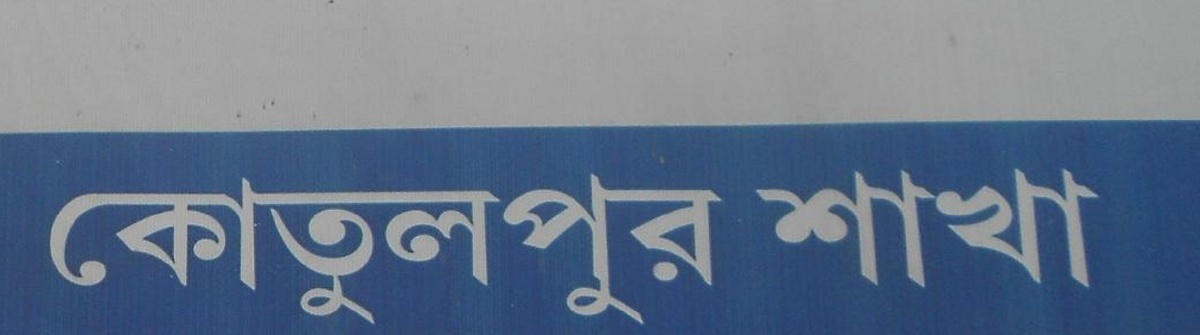text: (49, 172, 64, 330), (65, 172, 80, 330), (81, 172, 96, 330), (97, 172, 112, 330), (113, 172, 128, 330), (129, 172, 144, 330), (145, 172, 160, 330), (161, 172, 176, 330), (177, 172, 192, 330), (193, 172, 208, 330), (209, 172, 224, 330), (225, 172, 240, 330), (241, 172, 256, 330), (257, 172, 272, 330), (273, 172, 288, 330), (289, 172, 304, 330), (305, 172, 320, 330), (321, 172, 336, 330), (337, 172, 352, 330), (353, 172, 368, 330), (369, 172, 384, 330), (385, 172, 400, 330), (401, 172, 416, 330), (417, 172, 432, 330), (433, 172, 448, 330), (449, 172, 464, 330), (465, 172, 480, 330), (481, 172, 496, 330), (497, 172, 512, 330), (513, 172, 528, 330), (529, 172, 544, 330), (545, 172, 560, 330), (561, 172, 576, 330), (577, 172, 592, 330), (593, 172, 608, 330), (609, 172, 624, 330), (625, 172, 640, 330), (641, 172, 656, 330), (657, 172, 672, 330), (673, 172, 688, 330), (689, 172, 704, 330), (705, 172, 720, 330), (769, 165, 784, 289), (785, 165, 800, 289), (801, 165, 816, 289), (817, 165, 832, 289), (833, 165, 848, 289), (849, 165, 864, 289), (865, 165, 880, 289), (881, 165, 896, 289), (897, 165, 912, 289), (913, 165, 928, 289), (929, 165, 944, 289), (945, 165, 960, 289), (961, 165, 976, 289), (977, 165, 992, 289), (993, 165, 1008, 289), (1009, 165, 1024, 289), (1025, 165, 1040, 289), (1041, 165, 1056, 289), (1057, 165, 1072, 289), (1073, 165, 1088, 289), (1089, 165, 1104, 289), (754, 165, 768, 289), (721, 172, 729, 330), (1105, 165, 1106, 289)
